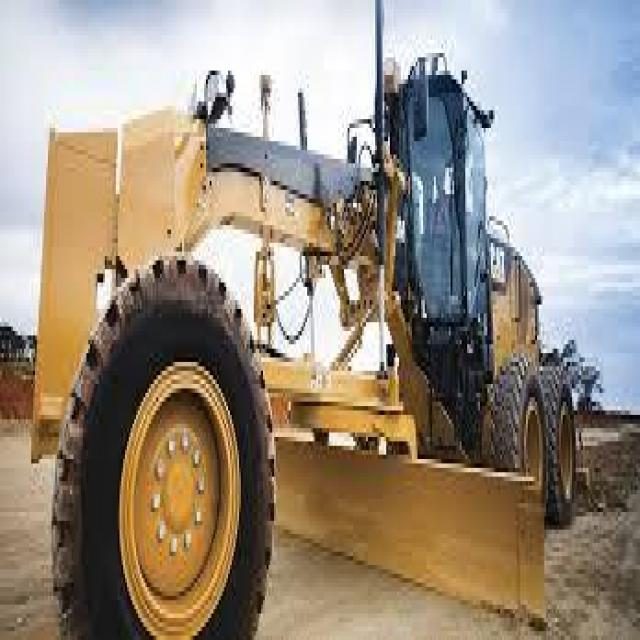Grader: (44, 18, 576, 636)
